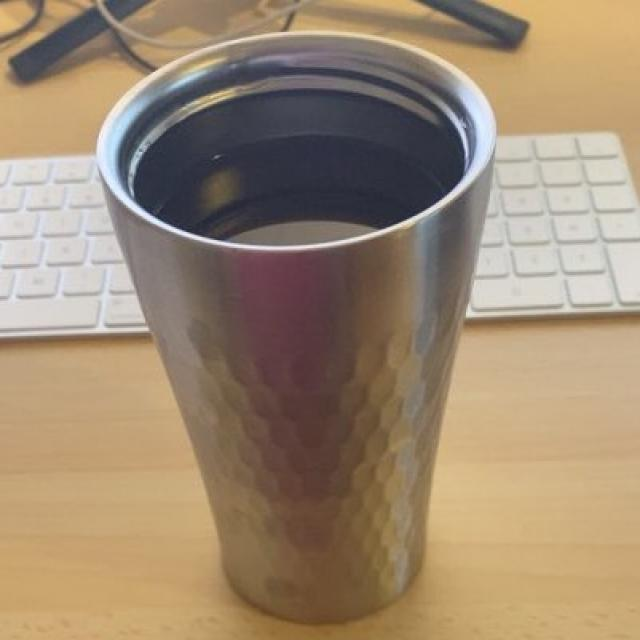tea: (145, 81, 455, 235)
